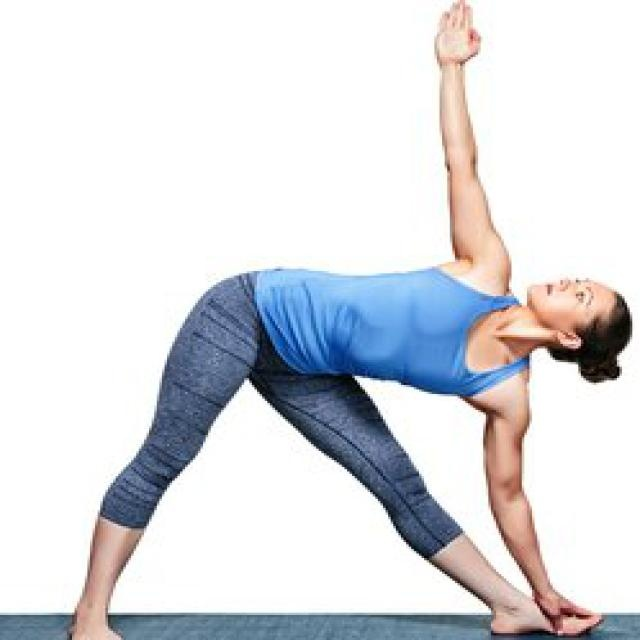Triangle_Pose: (60, 2, 636, 639)
